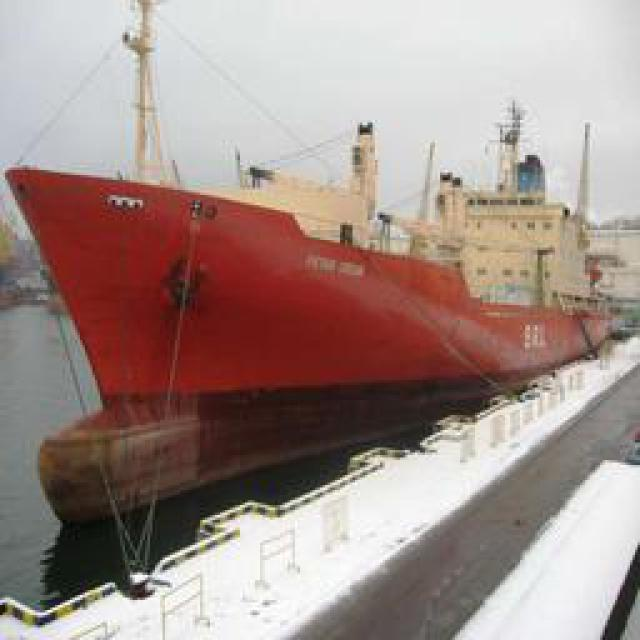Ship: (14, 100, 624, 555)
